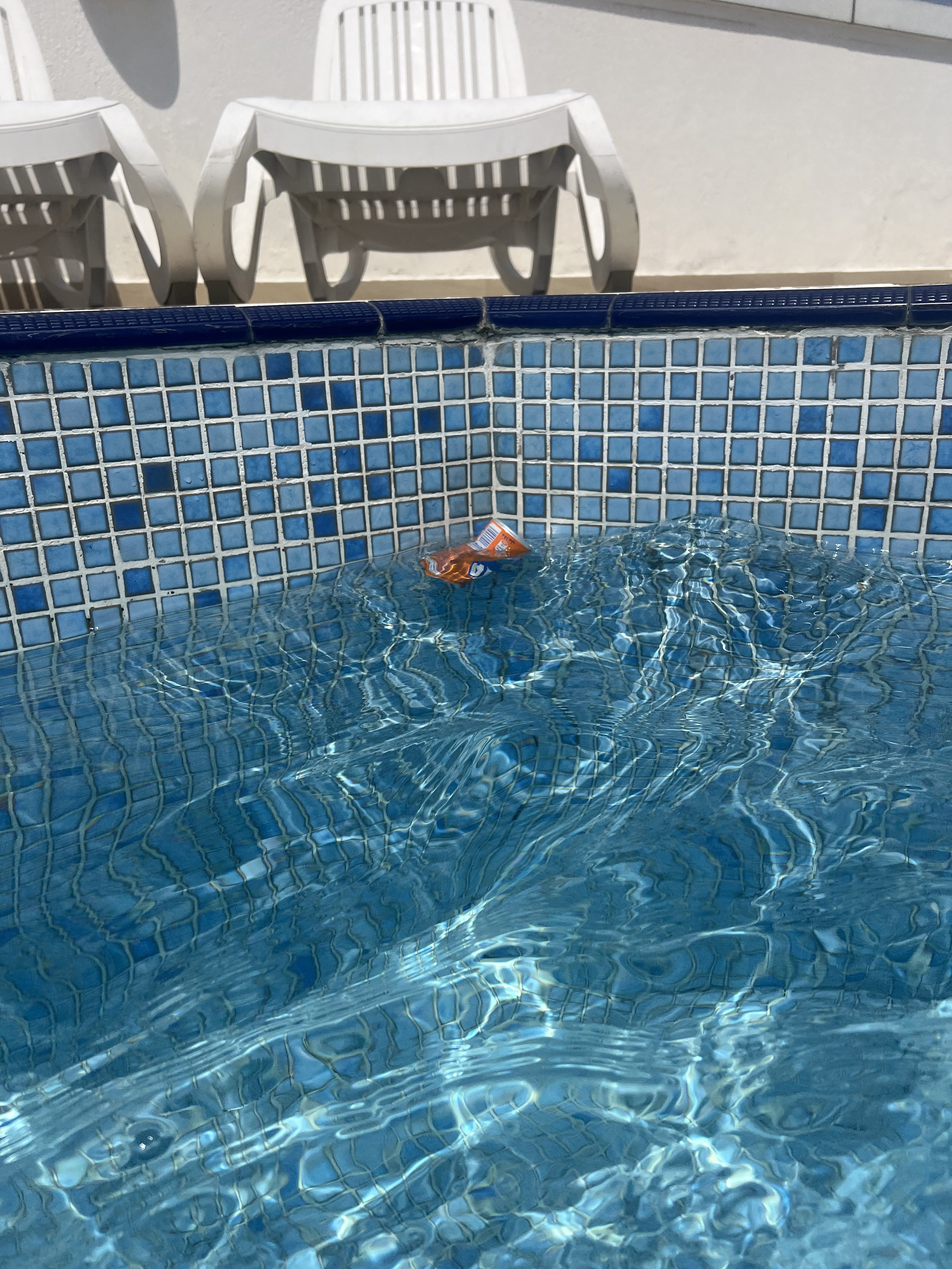debris: (416, 512, 531, 597)
